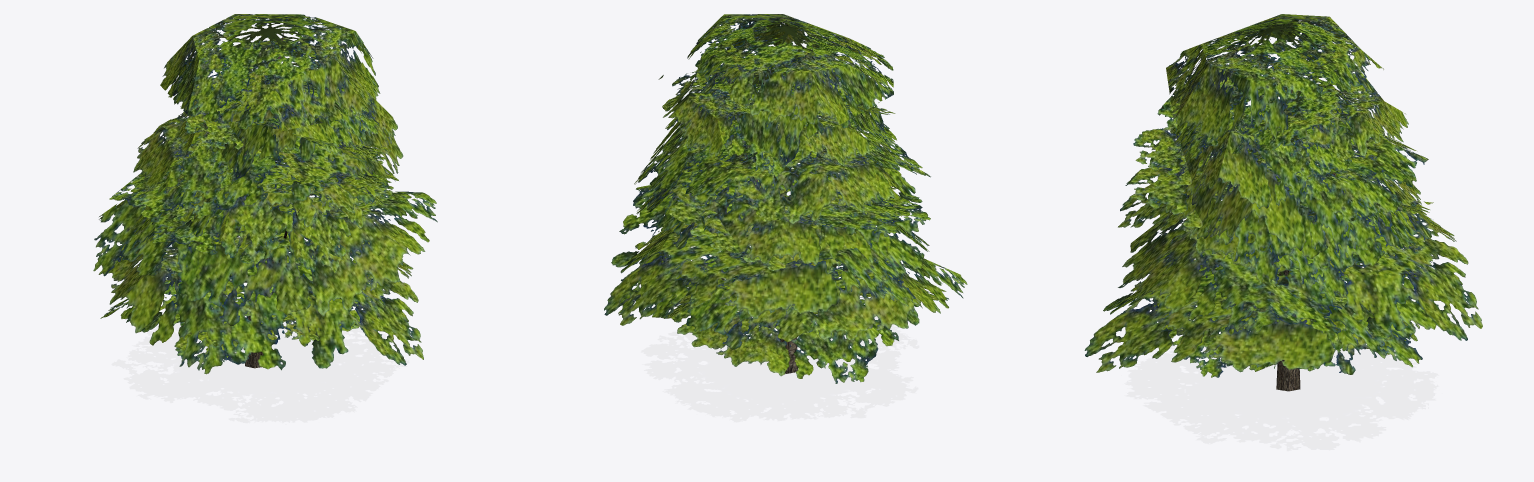
Rendered from OakTree.obj.
3 views of the same model, side by side, from view 1: azimuth 30°, elevation 25°; view 2: azimuth 150°, elevation 25°; view 3: azimuth 270°, elevation 25° (orthographic). The views are drawn at different scales.
Parts seen in each view (by area): view 1: oakcanopy; view 2: oakcanopy; view 3: oakcanopy, bark.
Part boxes in pixels (bbox=[...]): oakcanopy: bbox=[93, 14, 437, 374]; oakcanopy: bbox=[604, 14, 967, 383]; oakcanopy: bbox=[1084, 14, 1482, 377]; bark: bbox=[1269, 54, 1339, 391].
Bounding box in the file's own units: 91.96 × 86.87 × 99.92.
Materials: 3 (3 with a texture image).
